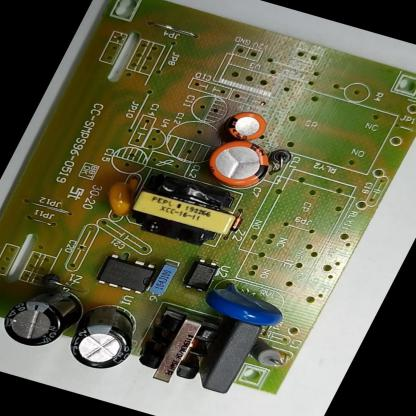Cap1: (195, 130, 282, 196)
Cap2: (214, 101, 278, 150)
Cap3: (55, 295, 154, 379)
Cap4: (0, 274, 95, 360)
MOSFET: (88, 247, 165, 301)
Mov: (191, 272, 299, 338)
Resistor: (237, 333, 294, 374)
Transformer: (114, 162, 254, 257), (120, 295, 236, 395)
